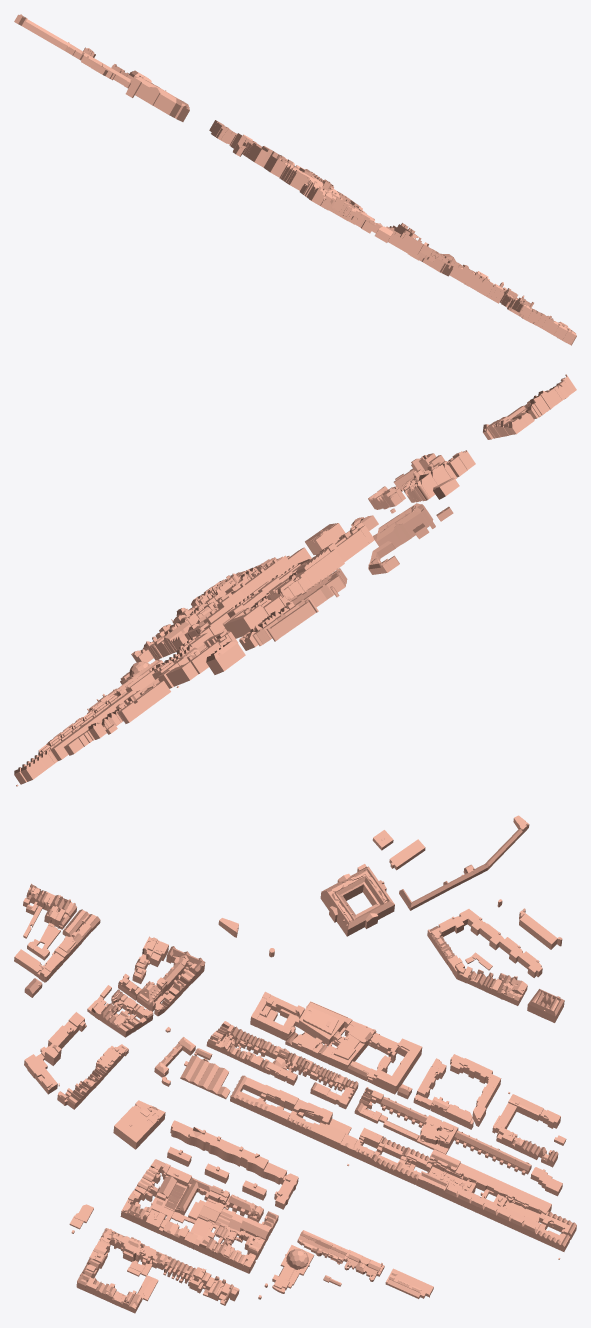
The picture shows the model from 3 angles, top to bottom: view 1: azimuth 30°, elevation 25°; view 2: azimuth 150°, elevation 25°; view 3: azimuth 270°, elevation 25°; orthographic projection. The views are drawn at different scales.
Bounding box in the file's own units: 1.78e+07 × 1.28e+07 × 2.14e+07.
